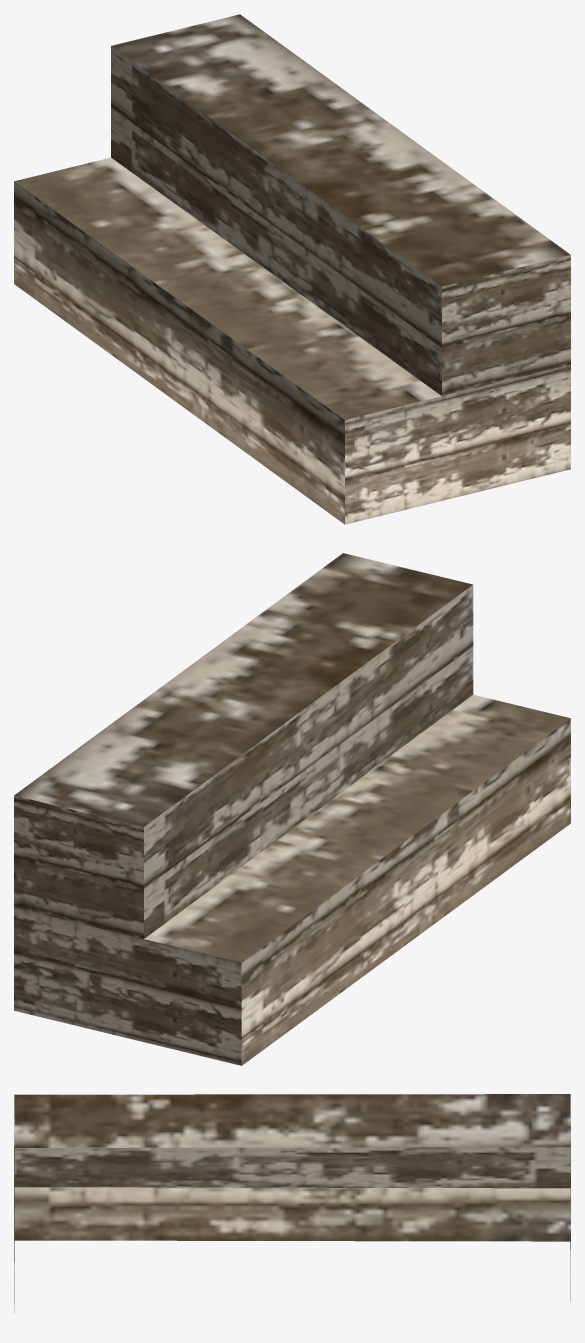
The model's file is House_01_02.fbx.
3 views of the same model, one above another, from view 1: azimuth 30°, elevation 25°; view 2: azimuth 150°, elevation 25°; view 3: azimuth 270°, elevation 25° (orthographic). The views are drawn at different scales.
Parts seen in each view (by area): view 1: Cube.002; view 2: Cube.002; view 3: Cube.002.
Part boxes in pixels (x1,y1,x2,y2): Cube.002: [14, 14, 570, 524]; Cube.002: [14, 553, 570, 1065]; Cube.002: [14, 1094, 570, 1313].
Bounding box in the file's own units: 1.32 × 1.19 × 3.31.
